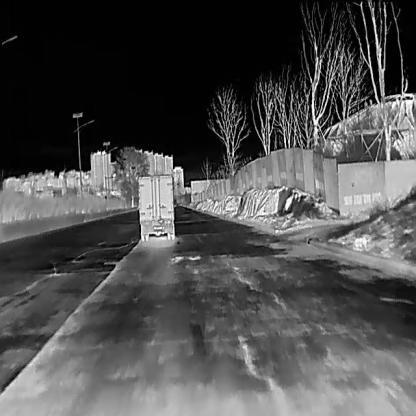car: (137, 173, 174, 240)
